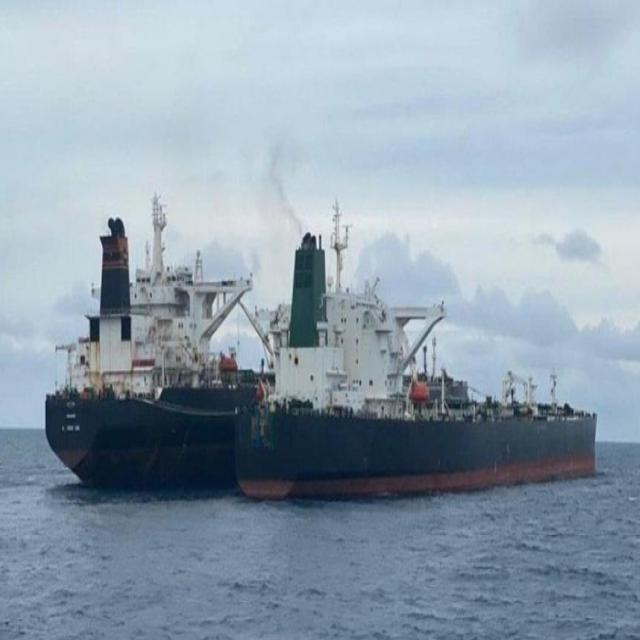cargoship: (250, 247, 590, 501), (46, 199, 272, 481)
